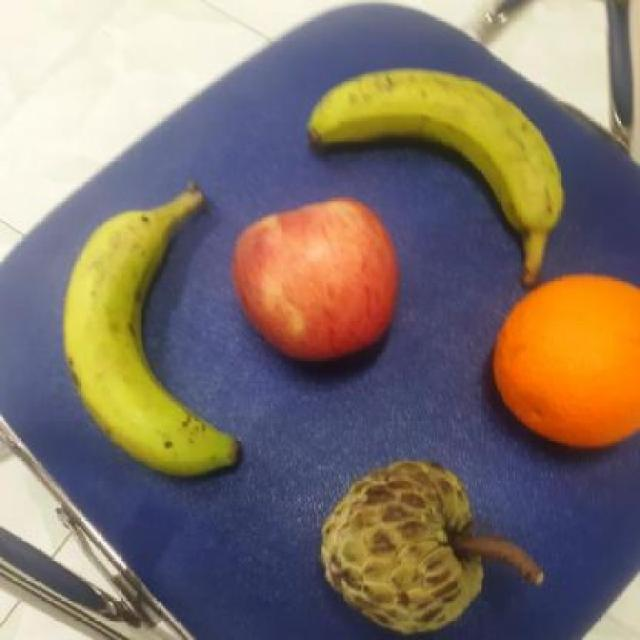apple: (228, 193, 402, 367)
banana: (57, 178, 245, 478), (302, 63, 563, 243)
oren: (488, 270, 640, 453)
sugar apple: (315, 460, 483, 640)
